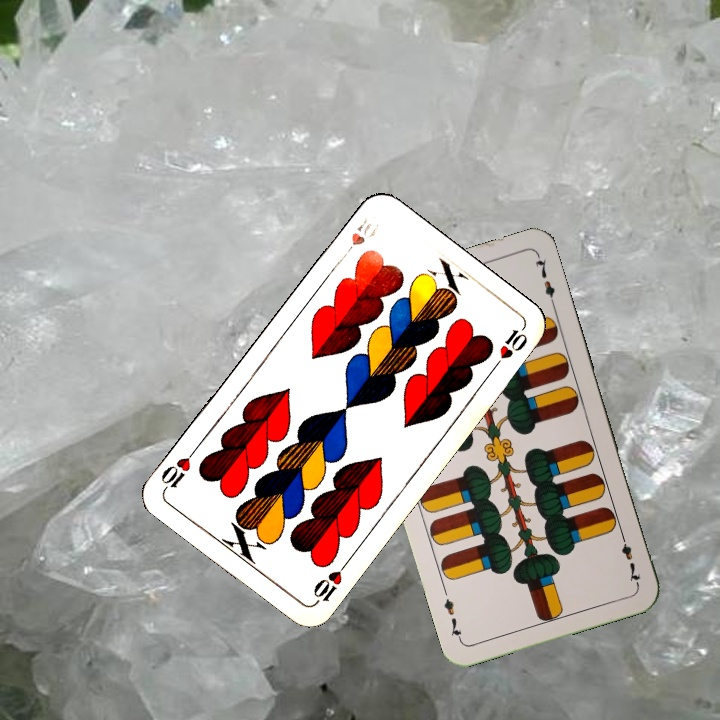E7: (616, 529, 643, 587)
H10: (337, 213, 382, 262), (309, 556, 352, 607)
